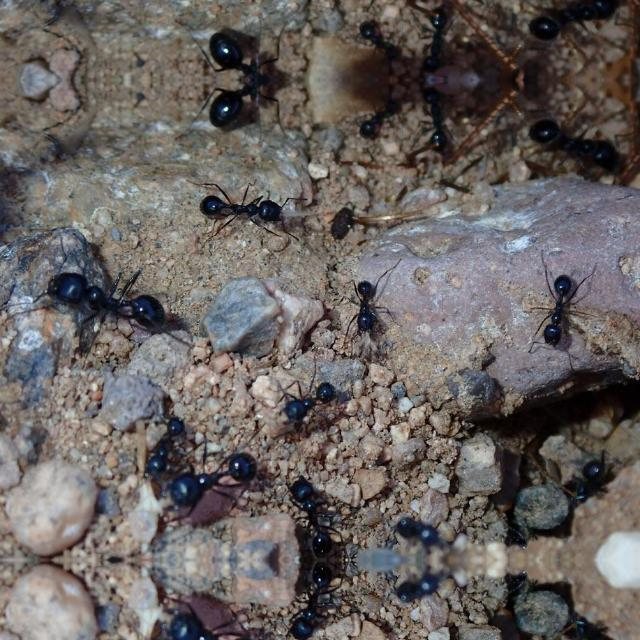Messor: (21, 245, 189, 351), (518, 108, 636, 174), (160, 441, 262, 515), (518, 0, 636, 50), (280, 473, 346, 553), (280, 565, 346, 640), (196, 182, 288, 230), (203, 78, 279, 134), (203, 24, 279, 80), (534, 266, 584, 348), (137, 408, 187, 484), (413, 82, 463, 158), (413, 0, 463, 76), (160, 603, 262, 640), (568, 442, 614, 510), (386, 512, 454, 556), (386, 562, 454, 606), (282, 366, 334, 422), (342, 88, 400, 138), (342, 20, 400, 70), (342, 273, 384, 339), (568, 608, 613, 640)
